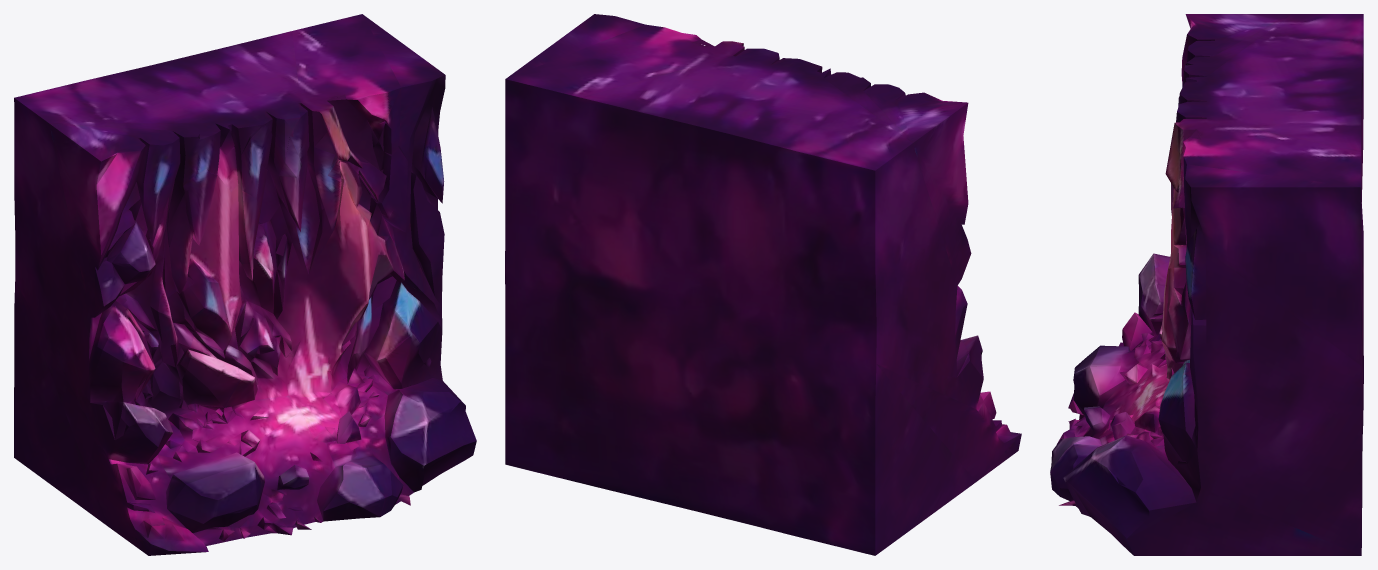
File: m2CaveWallChunk.glb
The picture shows the model from 3 angles, left to right: view 1: azimuth 30°, elevation 25°; view 2: azimuth 150°, elevation 25°; view 3: azimuth 270°, elevation 25°; orthographic projection. The views are drawn at different scales.
Parts seen in each view (by area): view 1: model; view 2: model; view 3: model.
Boxes of the visible parts, x1,y1,x2,y2 form: model: [14, 14, 476, 555]; model: [505, 14, 1021, 555]; model: [1050, 14, 1363, 555].
Bounding box in the file's own units: 1.89 × 1.88 × 1.45.
1 material, 1 textured.
